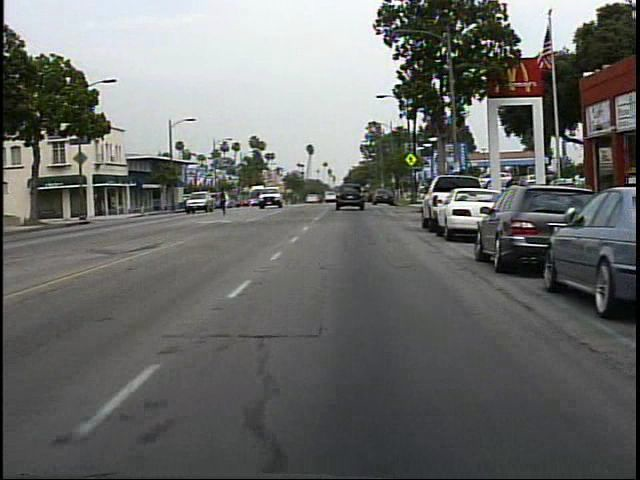person: (500, 170, 527, 224), (216, 185, 234, 219)
